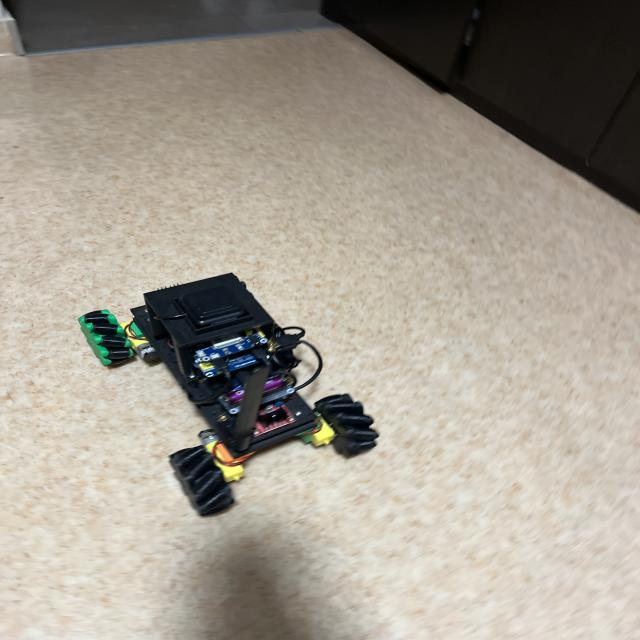robot: (79, 273, 379, 516)
